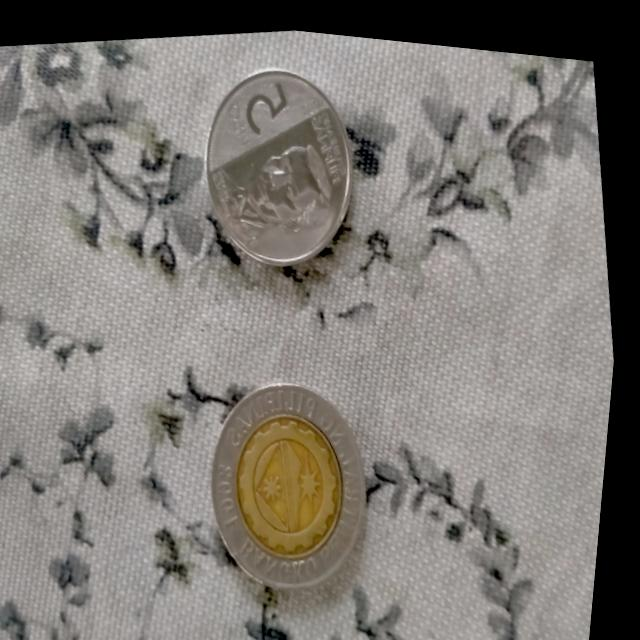10_Old_Back: (200, 362, 395, 600)
5_New_Front: (218, 64, 299, 153)
